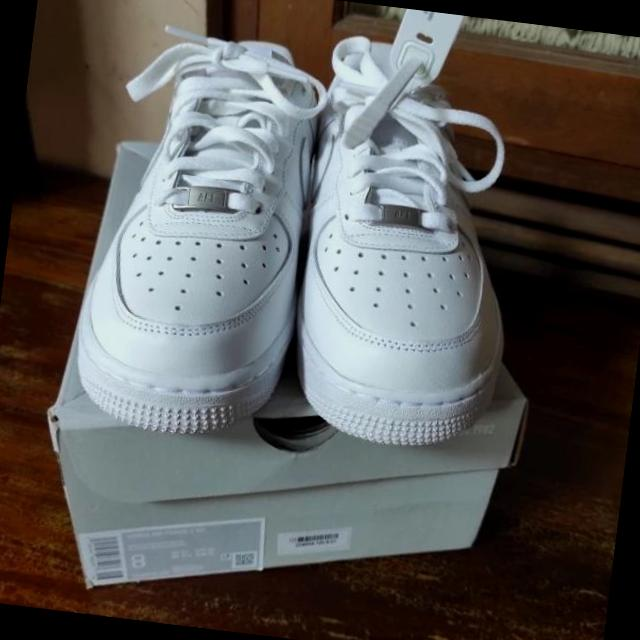nike_original_airforce: (61, 16, 335, 451), (281, 29, 543, 456)
